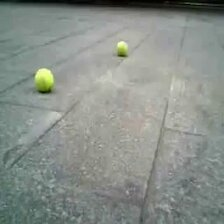tennis: (35, 68, 52, 90), (117, 40, 127, 54)
